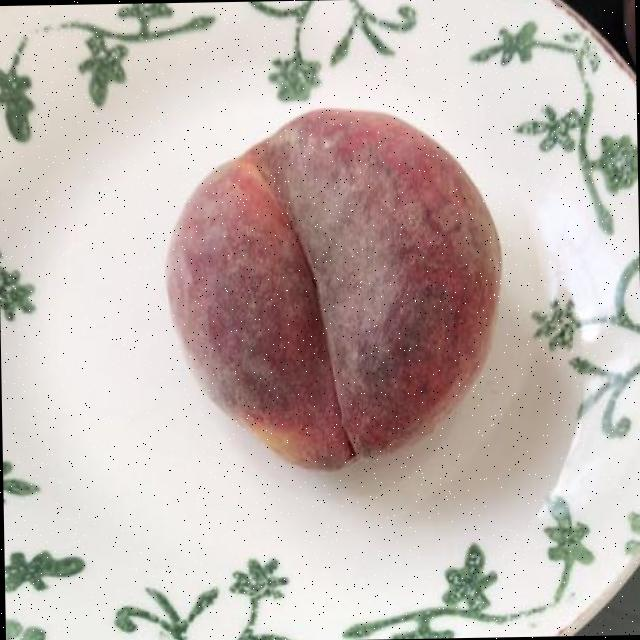peach: (170, 113, 495, 469)
